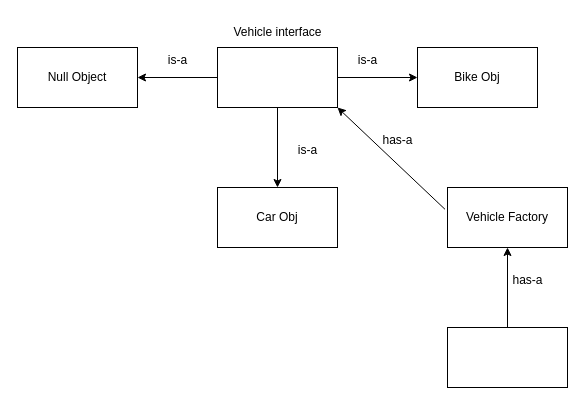
Image size: 585x405. Some labels were removed from this diagram. The centre of each missing label's shape, as x and y in pixels:
Client: the point at 507,357
getTankCapacity(); getSeatingCapactiy();: the point at 277,77
